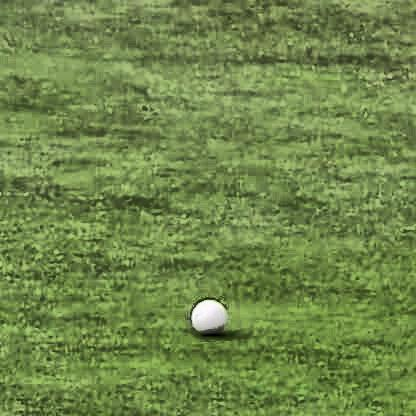golfball: (189, 295, 225, 332)
